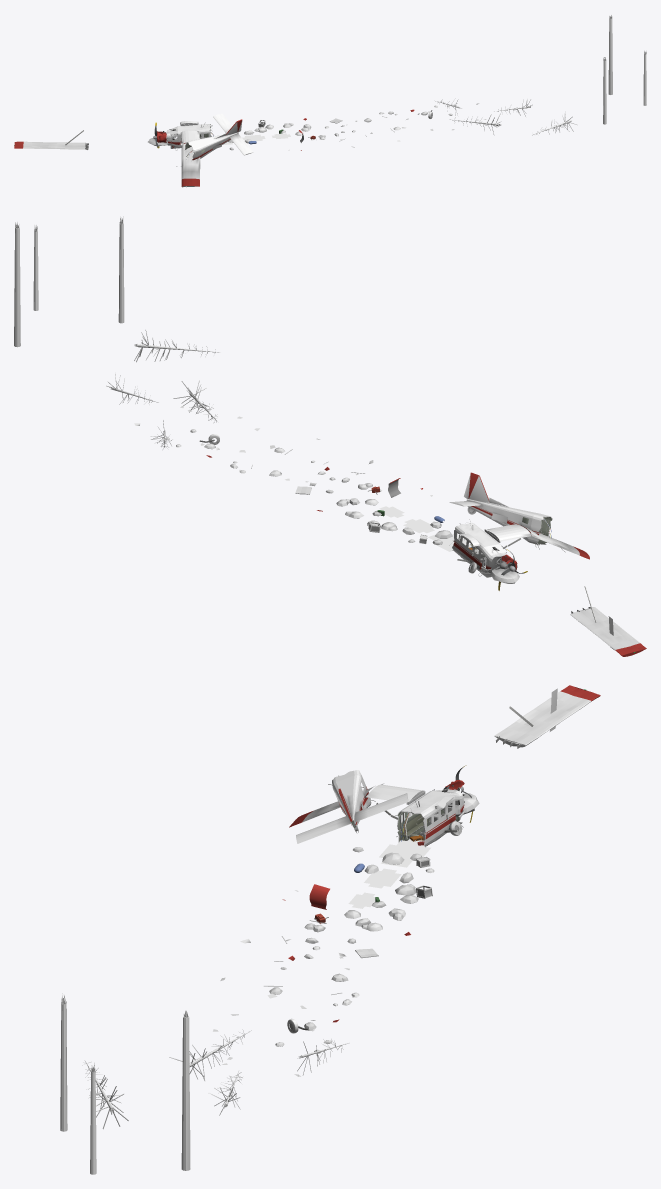
File: crash_site.glb
3 views of the same model, one above another, from view 1: azimuth 30°, elevation 25°; view 2: azimuth 150°, elevation 25°; view 3: azimuth 270°, elevation 25° (orthographic). The views are drawn at different scales.
Visible parts, largest first — view 1: main, ground, detail; view 2: main, detail, ground; view 3: main, detail, ground.
Boxes of the visible parts, x1,y1,x2,y2 form: main: [14, 15, 646, 187]; ground: [148, 105, 452, 150]; detail: [14, 103, 486, 187]; main: [14, 216, 646, 656]; detail: [134, 406, 635, 652]; ground: [165, 429, 519, 583]; main: [60, 685, 600, 1174]; detail: [213, 688, 585, 1076]; ground: [269, 793, 479, 1053].
Size of the model in its own units: 63.56 by 11.59 by 28.98.
